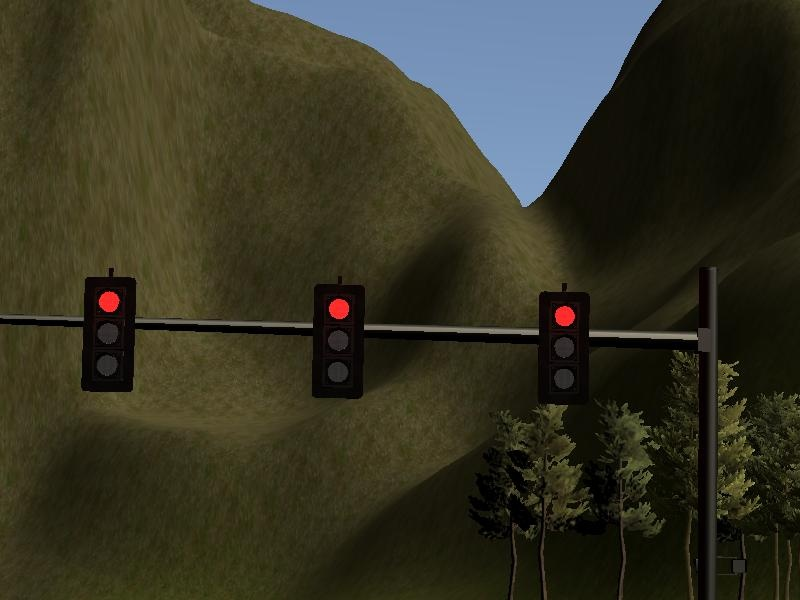red: (306, 273, 370, 404), (75, 267, 139, 397), (533, 283, 594, 409)
